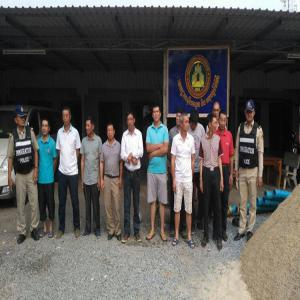blue: (245, 99, 256, 125), (14, 107, 26, 130)
none: (85, 116, 96, 137), (207, 114, 218, 134), (180, 112, 190, 134), (62, 106, 73, 126), (218, 110, 228, 131), (152, 103, 162, 123), (106, 122, 116, 141), (191, 109, 200, 130), (42, 117, 51, 137), (213, 101, 222, 120), (127, 111, 136, 130), (176, 109, 185, 127)
